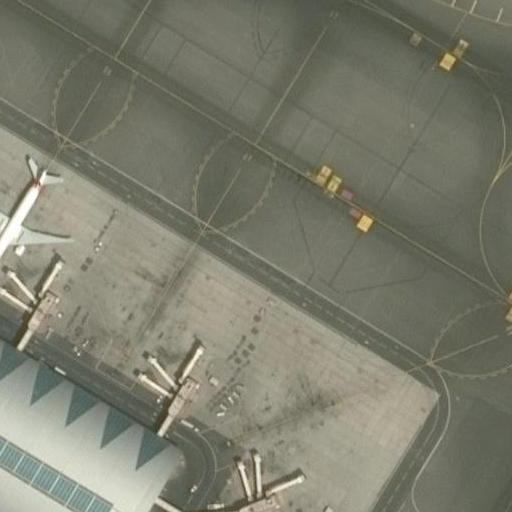Aircraft: (0, 156, 69, 294)
